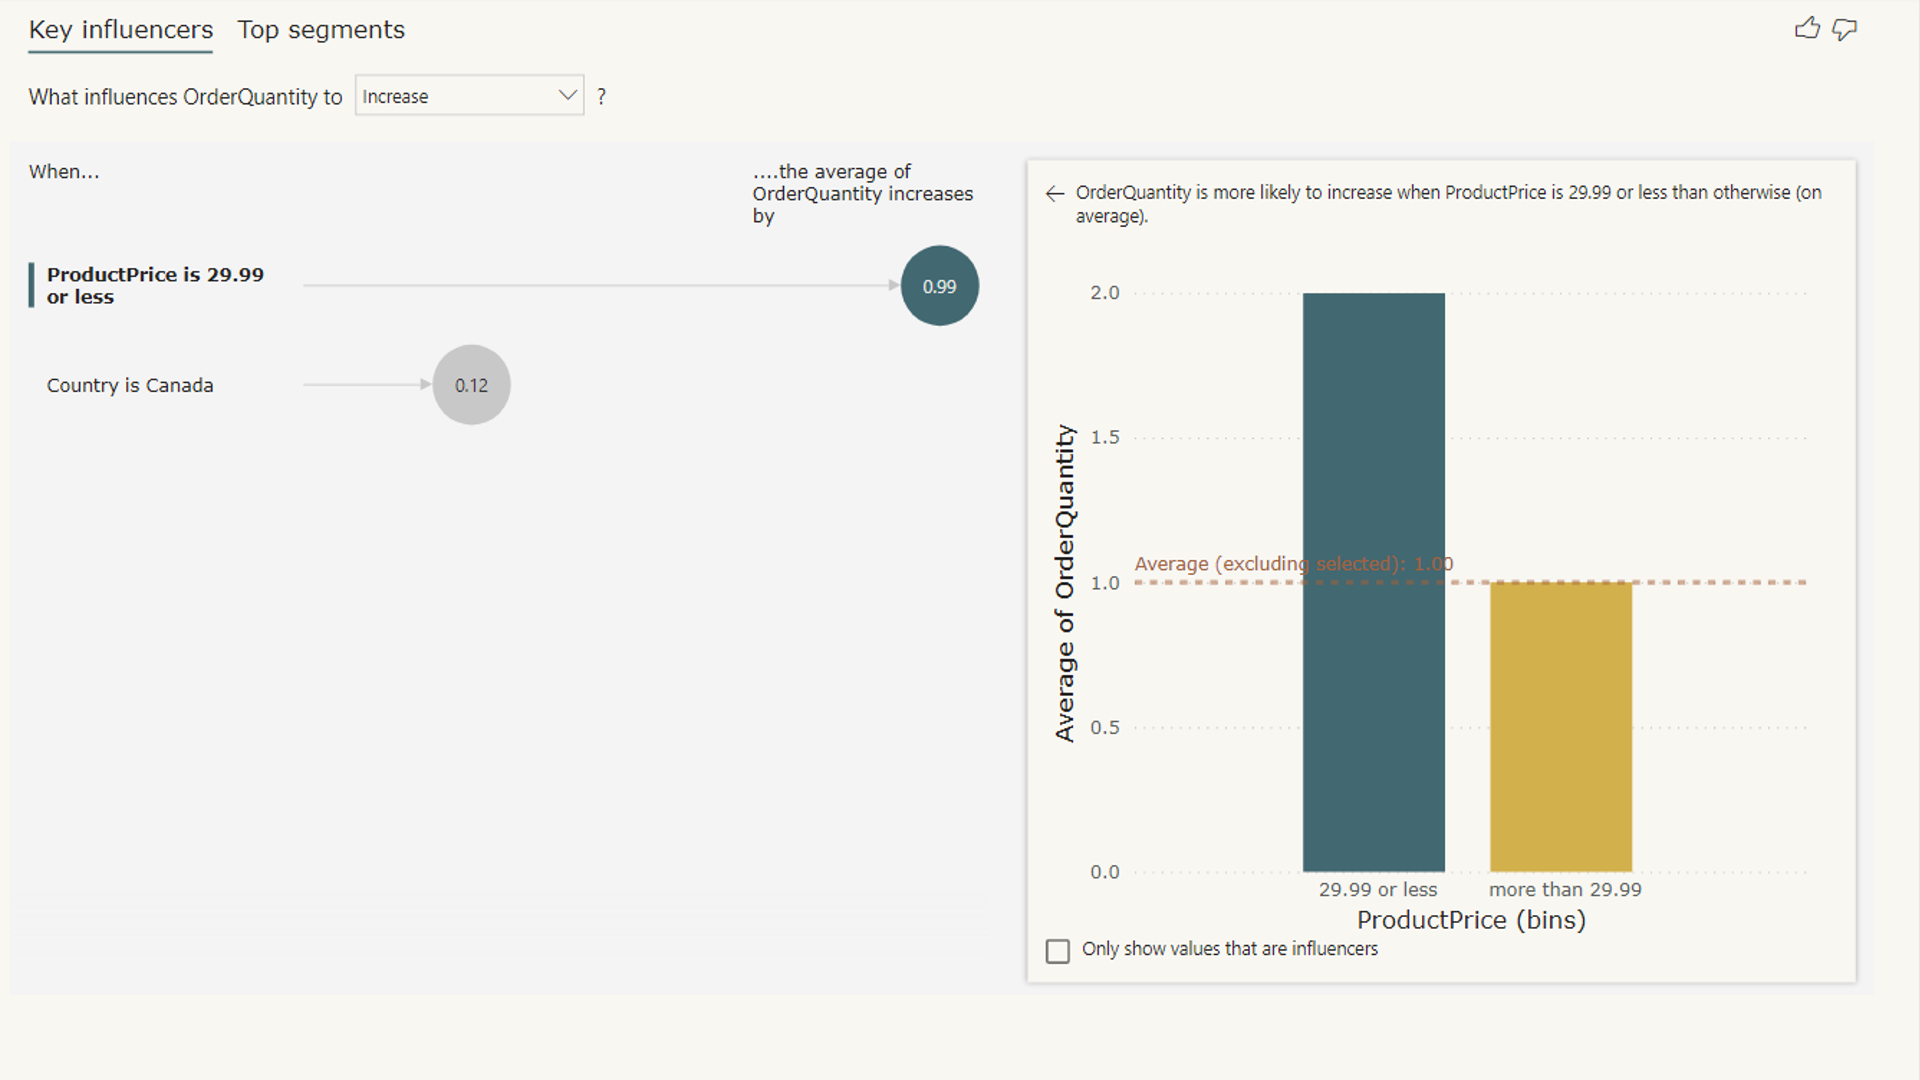

The page's visual inventory and layout, read from the dashboard file:
{"tool":"powerbi","page":{"name":"KI2","canvas":[1280,720],"ordinal":4},"visuals":[{"type":"keyDriversVisual","fields":{"Target":["f-Sales.Revenue"],"ExplainBy":["Sum(d-Products.ProductPrice)"],"Details":["d-ProductSubcategories.SubcategoryName"]},"box":[9.7,0,1098.8,596.6],"z":0}]}

Visuals, with their boxes in screenshot pixels (x1, y1, x2, y2), scaled from the page's 1280x720 canvas onto the 1920x1080 screenshot:
keyDriversVisual - f-Sales.Revenue x Sum(d-Products.ProductPrice): [15, 0, 1663, 895]
